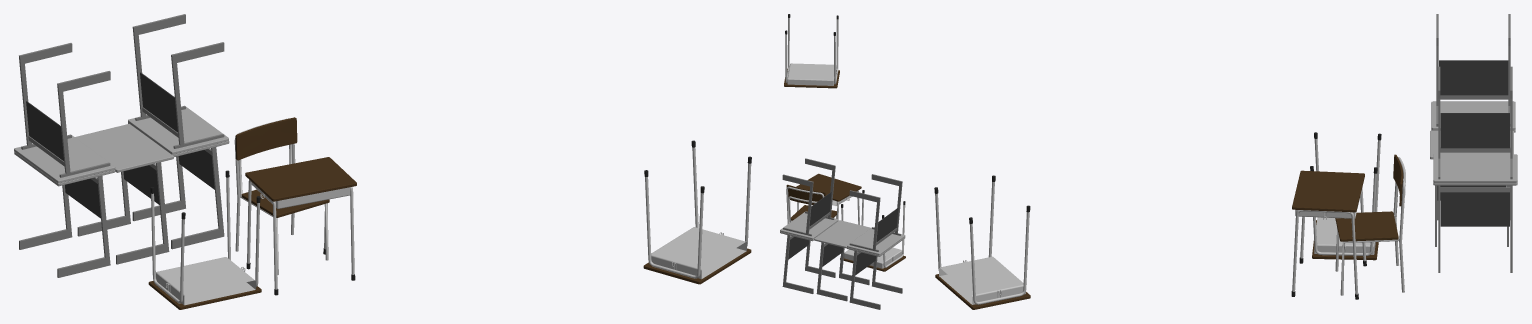
File: hunt_anim.glb
3 renders of one model, left to right at view 1: azimuth 30°, elevation 25°; view 2: azimuth 150°, elevation 25°; view 3: azimuth 270°, elevation 25°, orthographic. The views are drawn at different scales.
Parts seen in each view (by area): view 1: 立方体.086, 立方体.090, 立方体.084, 立方体.085, 立方体.076, 立方体.087, 立方体.074; view 2: 立方体.086, 立方体.090, 立方体.084, 立方体.087, 立方体.076, 立方体.085, 立方体.074; view 3: 立方体.090, 立方体.086, 立方体.087, 立方体.076, 立方体.074, 立方体.085, 立方体.084.
Boxes of the visible parts, <box> form: 立方体.086: <box>14,43,115,277</box>; 立方体.090: <box>128,14,229,249</box>; 立方体.084: <box>75,124,173,264</box>; 立方体.085: <box>148,170,261,309</box>; 立方体.076: <box>245,157,356,295</box>; 立方体.087: <box>643,140,751,284</box>; 立方体.074: <box>234,117,329,275</box>; 立方体.086: <box>847,174,905,309</box>; 立方体.090: <box>780,158,838,293</box>; 立方体.084: <box>814,220,870,301</box>; 立方体.087: <box>784,14,839,88</box>; 立方体.076: <box>796,173,861,224</box>; 立方体.085: <box>840,190,905,271</box>; 立方体.074: <box>786,184,836,223</box>; 立方体.090: <box>1433,66,1517,272</box>; 立方体.086: <box>1431,14,1515,220</box>; 立方体.087: <box>934,175,1030,309</box>; 立方体.076: <box>1291,170,1366,299</box>; 立方体.074: <box>1335,154,1405,295</box>; 立方体.085: <box>1310,132,1381,260</box>; 立方体.084: <box>1430,130,1513,246</box>.
Size of the model in its own units: 4.34 by 1.79 by 5.18.
